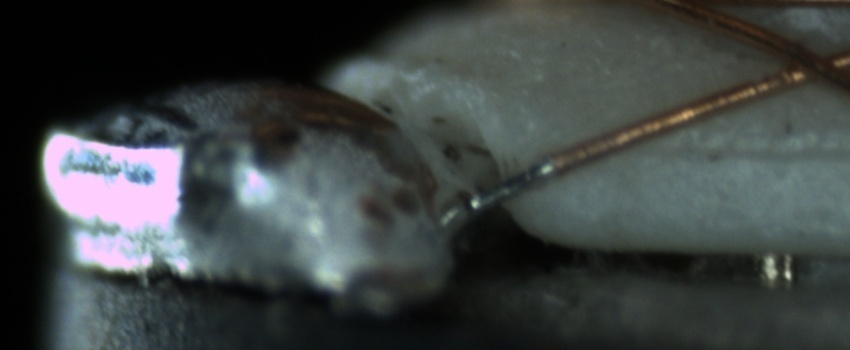CL: (758, 33, 847, 93)
DL: (623, 116, 849, 186)
TS: (448, 154, 555, 225)
TTCW: (452, 154, 566, 217)
